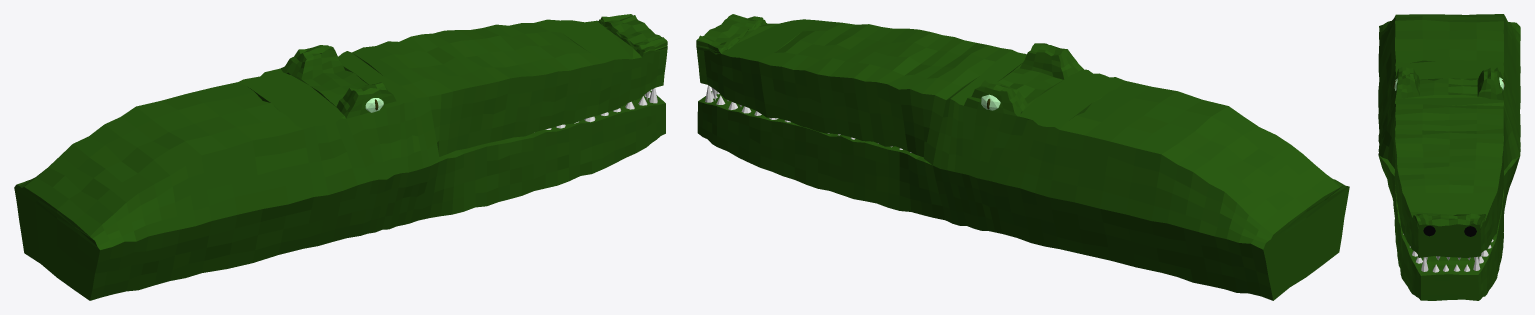
File: Cocodrilo Boca Cerrada.fbx
3 renders of one model, left to right at view 1: azimuth 30°, elevation 25°; view 2: azimuth 150°, elevation 25°; view 3: azimuth 270°, elevation 25°, orthographic. The views are drawn at different scales.
Visible parts, largest first — view 1: Cube.002; view 2: Cube.002; view 3: Cube.002, Icosphere.010, Icosphere.011.
Boxes of the visible parts, x1,y1,x2,y2 form: Cube.002: [14, 14, 667, 300]; Cube.002: [696, 14, 1349, 300]; Cube.002: [1378, 14, 1520, 300]; Icosphere.010: [1464, 226, 1476, 236]; Icosphere.011: [1423, 225, 1435, 236].
Bounding box in the file's own units: 241 × 55.42 × 61.1.
